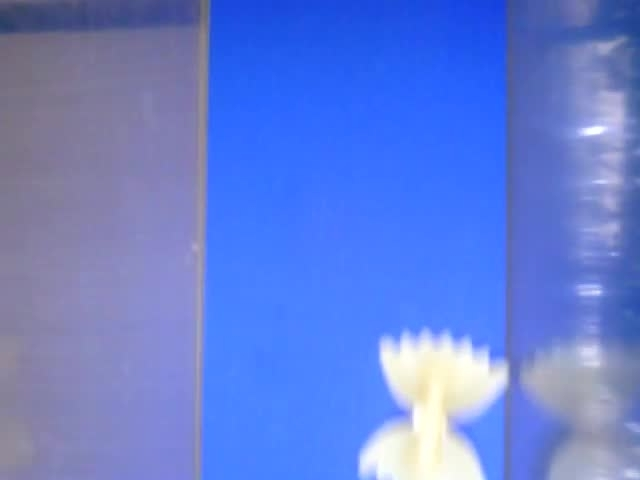farfalle: (358, 328, 508, 480)
